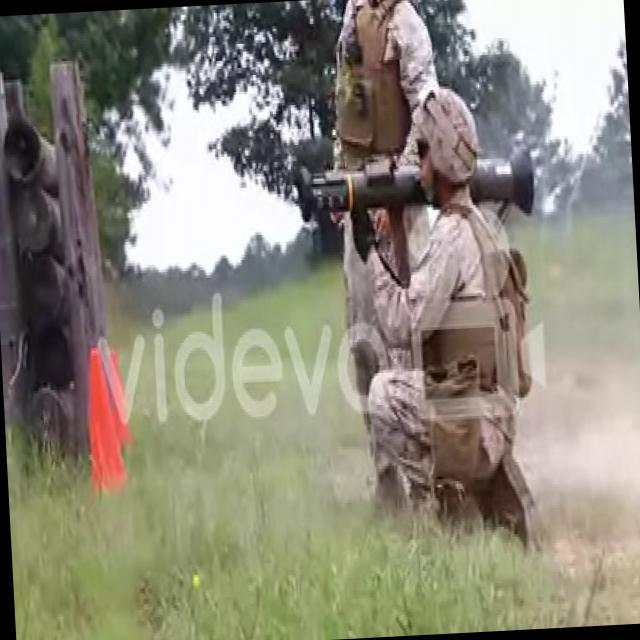rocket: (298, 153, 538, 224)
